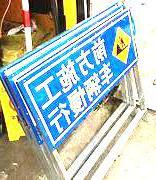sign: (17, 8, 144, 149)
